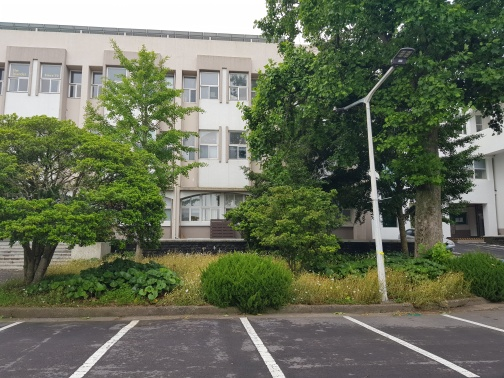Main Building of University: (1, 10, 378, 249)
